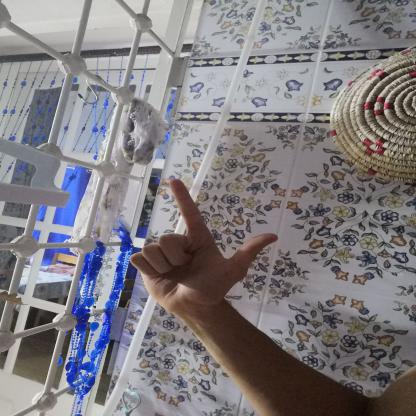LAAM: (116, 170, 292, 324)
